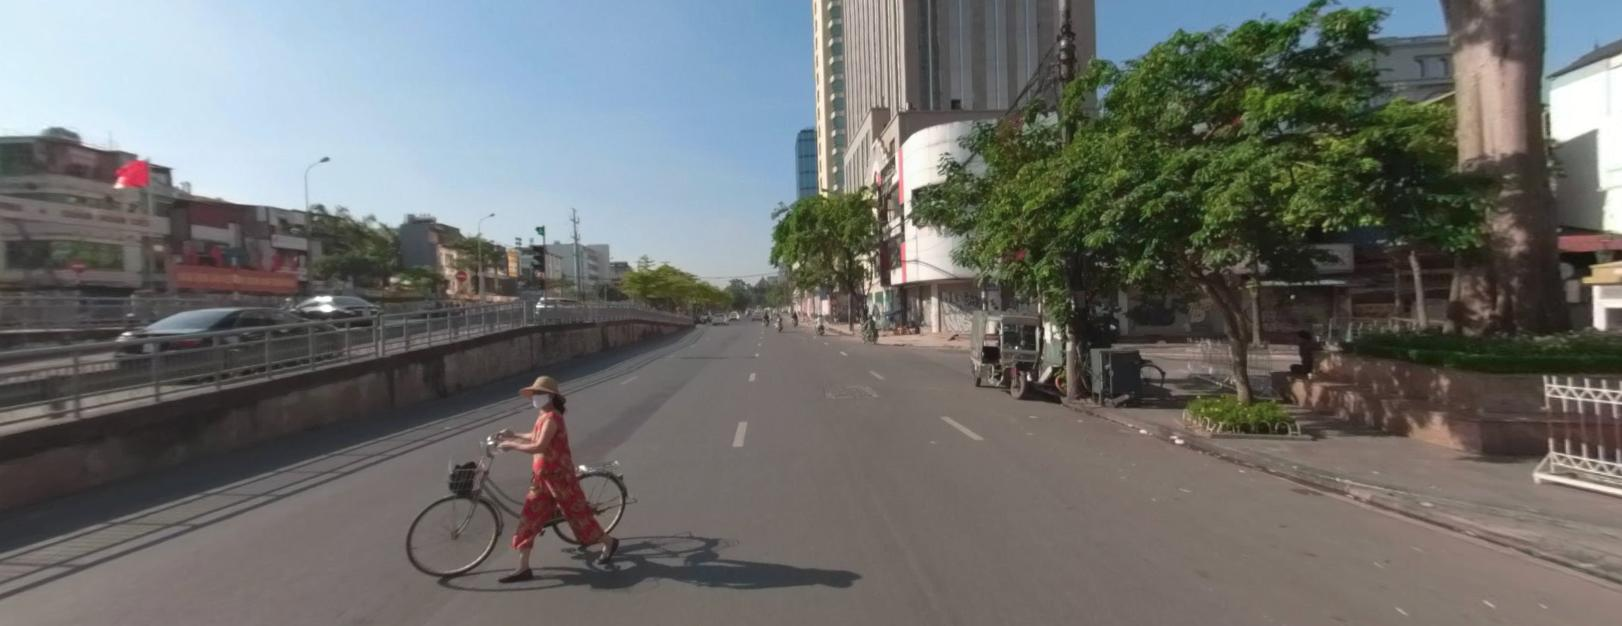Cam nguoc chieu: (455, 268, 465, 278)
